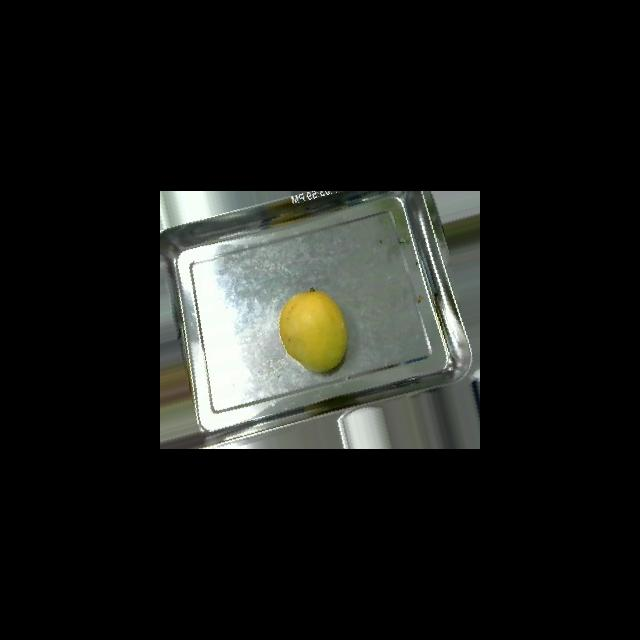Mango: (278, 287, 348, 373)
